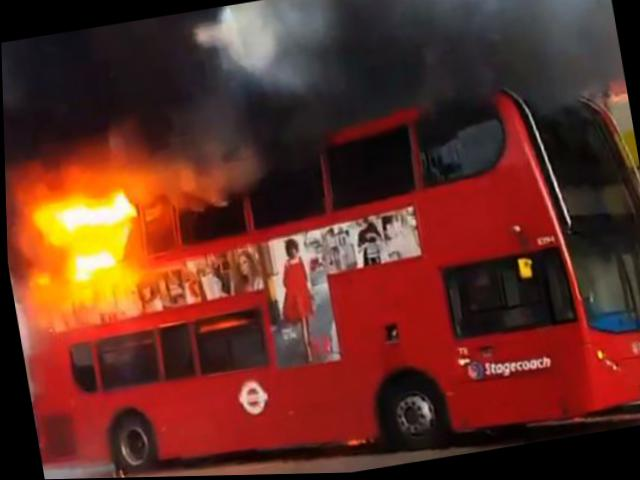fire: (3, 109, 232, 335)
